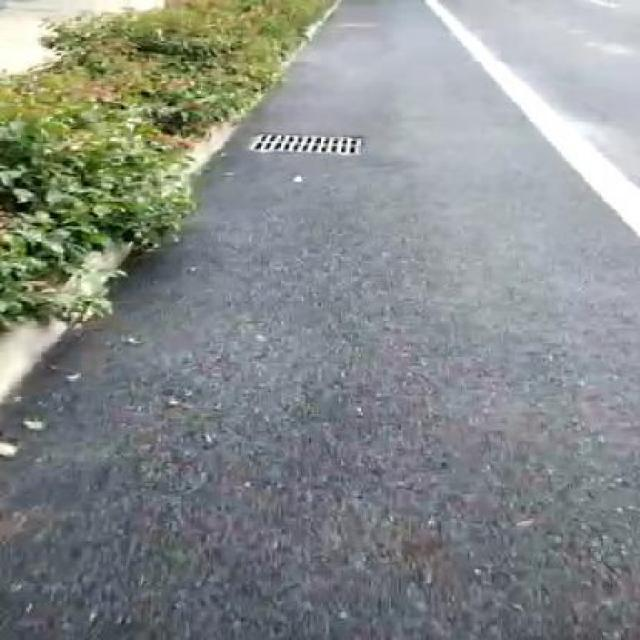Manhole: (243, 128, 372, 154)
